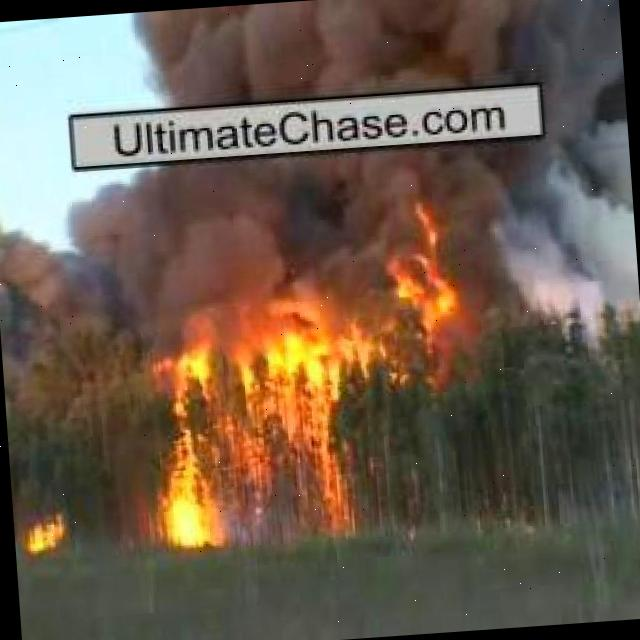fire: (130, 348, 364, 570), (378, 222, 477, 344), (15, 512, 68, 556)
